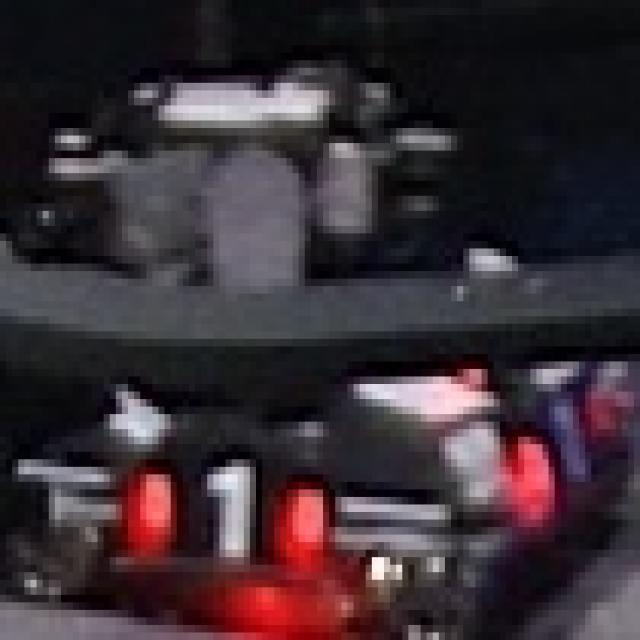R1: (128, 452, 329, 572), (518, 384, 610, 535)
